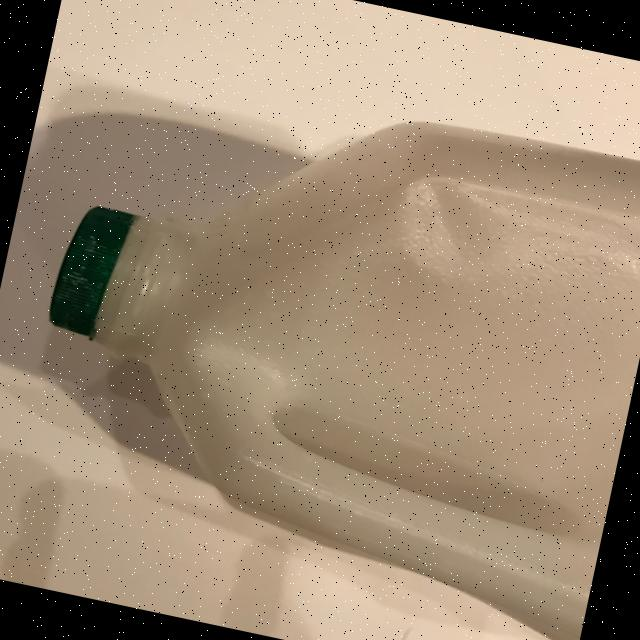plastic: (0, 44, 640, 640)
